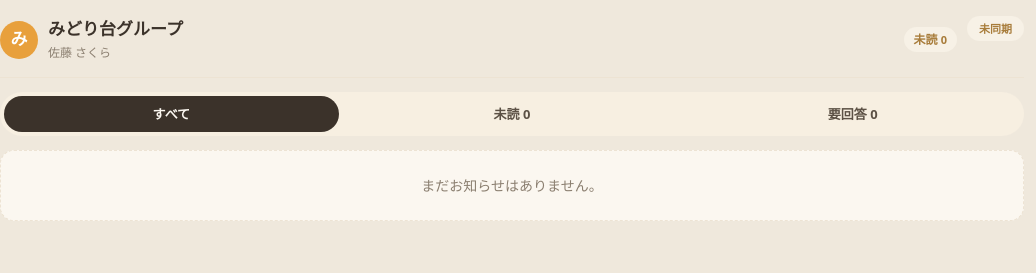
Test: TimelineView › refreshes the list after a manual sync
The image size is (1036, 273).
What coordinates should you click on to do the following:
click the button with test id "sync"
I would click on:
 (996, 29)
Its box is [967,16,1024,41].
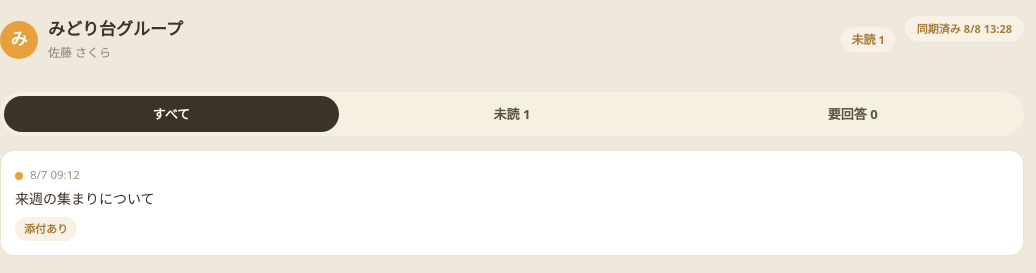
Now the number of list items with test id "message" is 1, box [0,150,1024,256]
